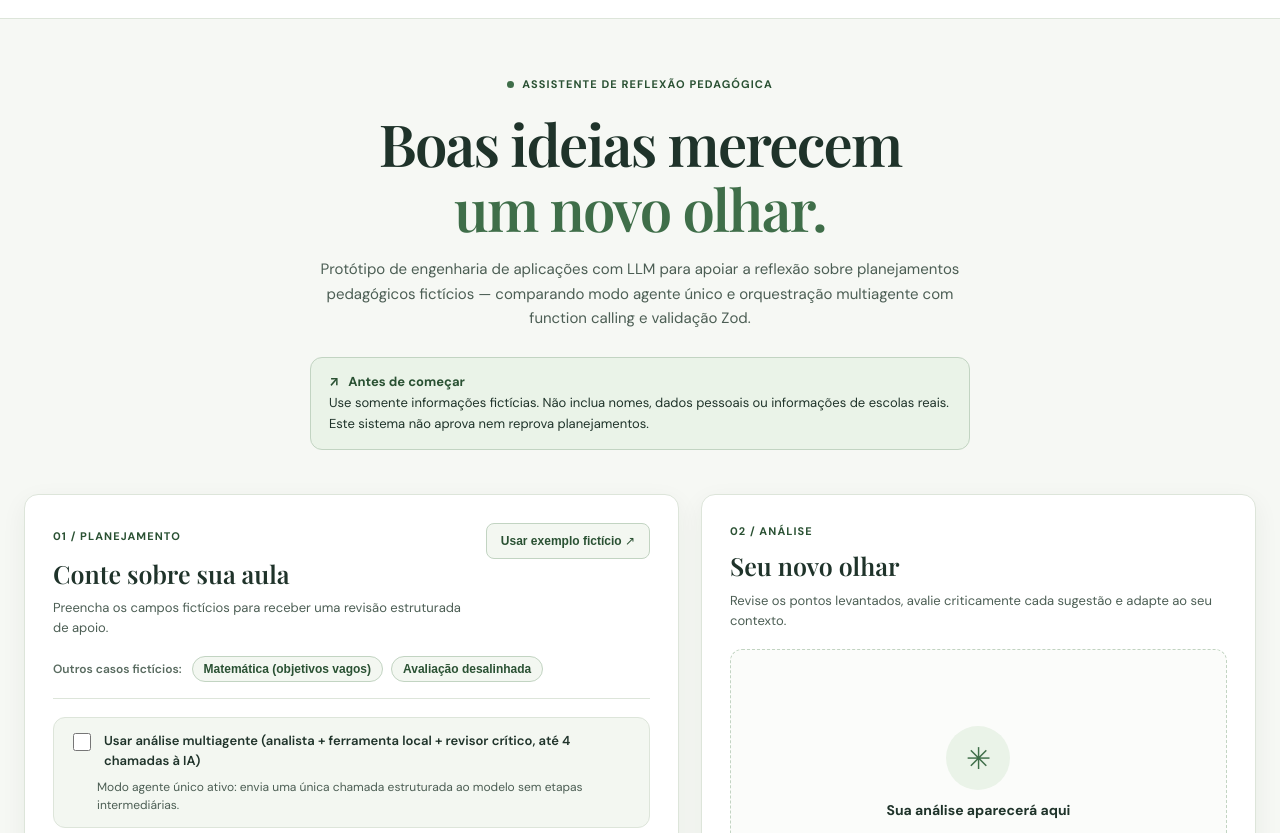
Test: interface › apresenta erro recebido da API
This screenshot has width=1280, height=833.
Step 1. Click the button "Usar exemplo fictício ↗" → x=568, y=540, box [486,522,650,558]
(page scrolled)
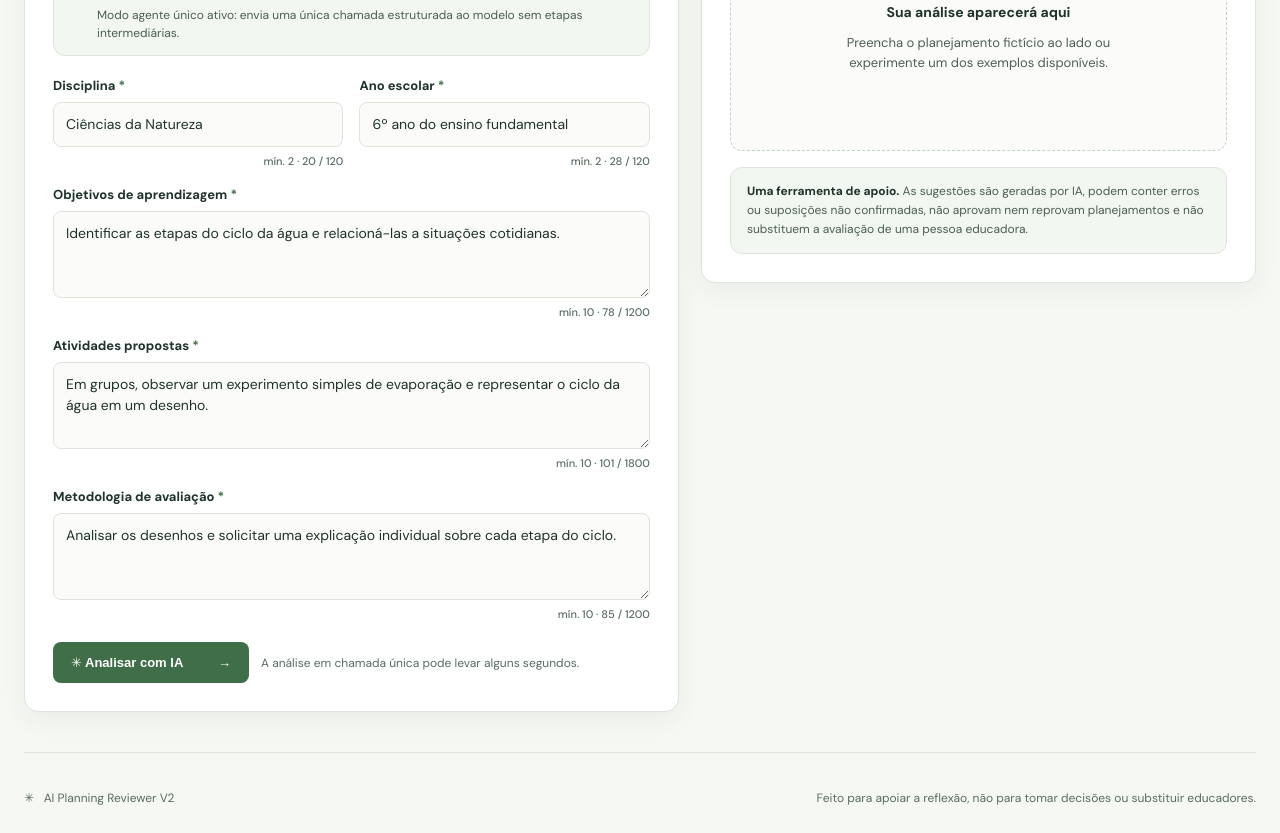
Step 2. Click the button "✳ Analisar com IA →" → x=151, y=663, box [53,642,249,683]
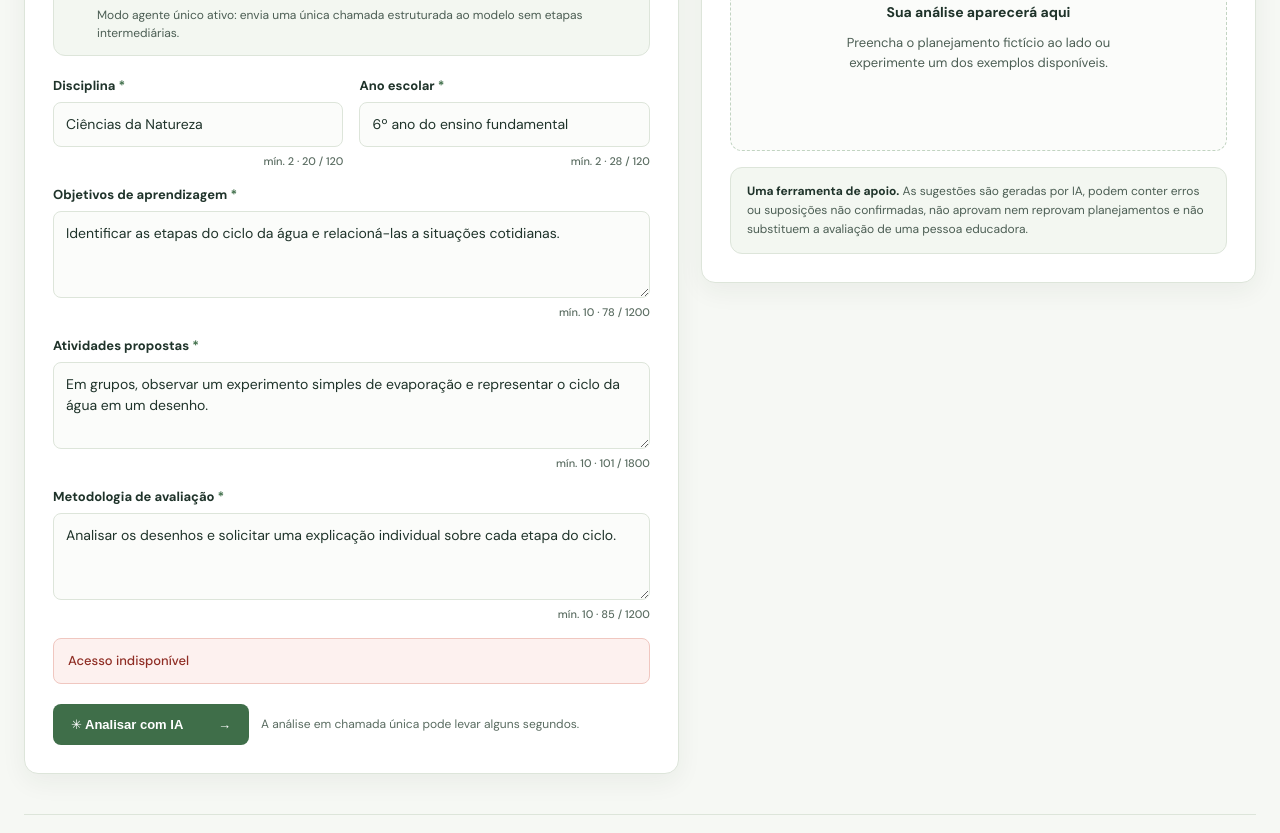
Expected: the message reads "Acesso indisponível", [68,652,189,669]
